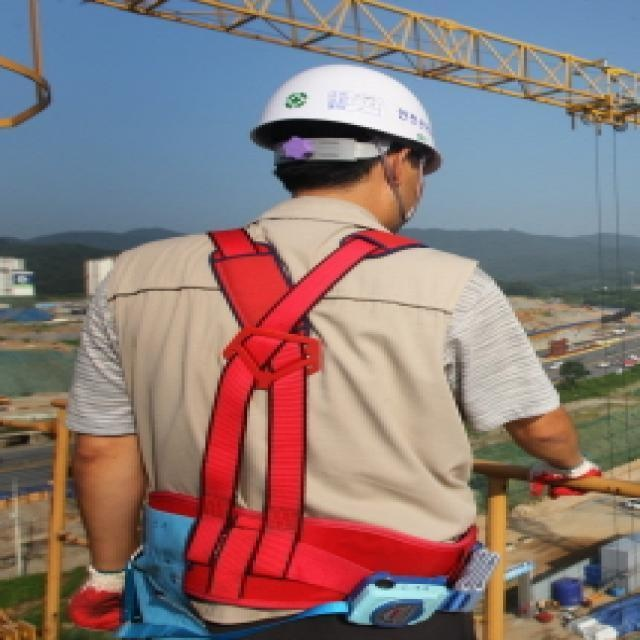Arnes_seguridad: (107, 223, 485, 639)
